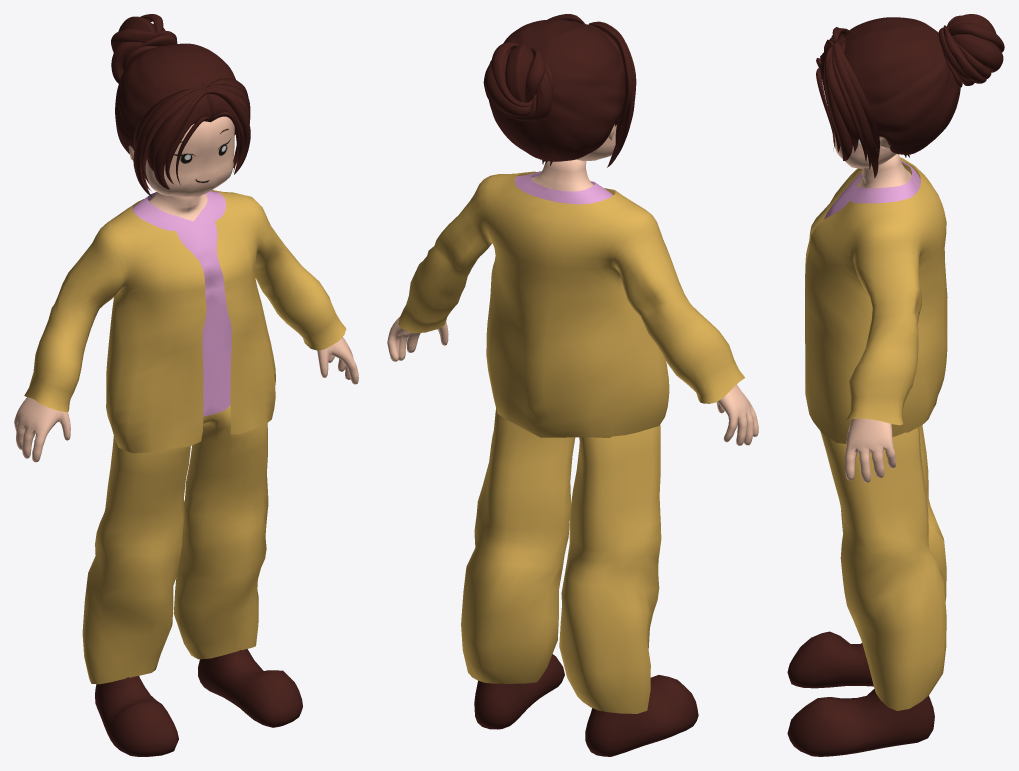
File: mom.fbx
The picture shows the model from 3 angles, left to right: view 1: azimuth 30°, elevation 25°; view 2: azimuth 150°, elevation 25°; view 3: azimuth 270°, elevation 25°; orthographic projection. The views are drawn at different scales.
Visible parts, largest first — view 1: Mom's jacket; view 2: Mom's jacket; view 3: Mom's jacket.
Boxes of the visible parts, bbox=[...] form: Mom's jacket: bbox=[14, 14, 358, 756]; Mom's jacket: bbox=[387, 14, 758, 756]; Mom's jacket: bbox=[787, 14, 1004, 756].
Size of the model in its own units: 175 by 336 by 94.22.
